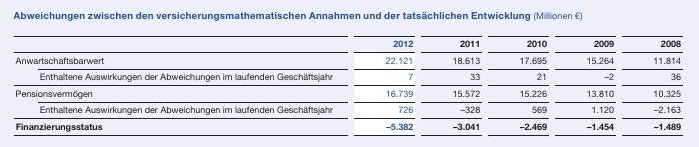table: (0, 0, 699, 147)
